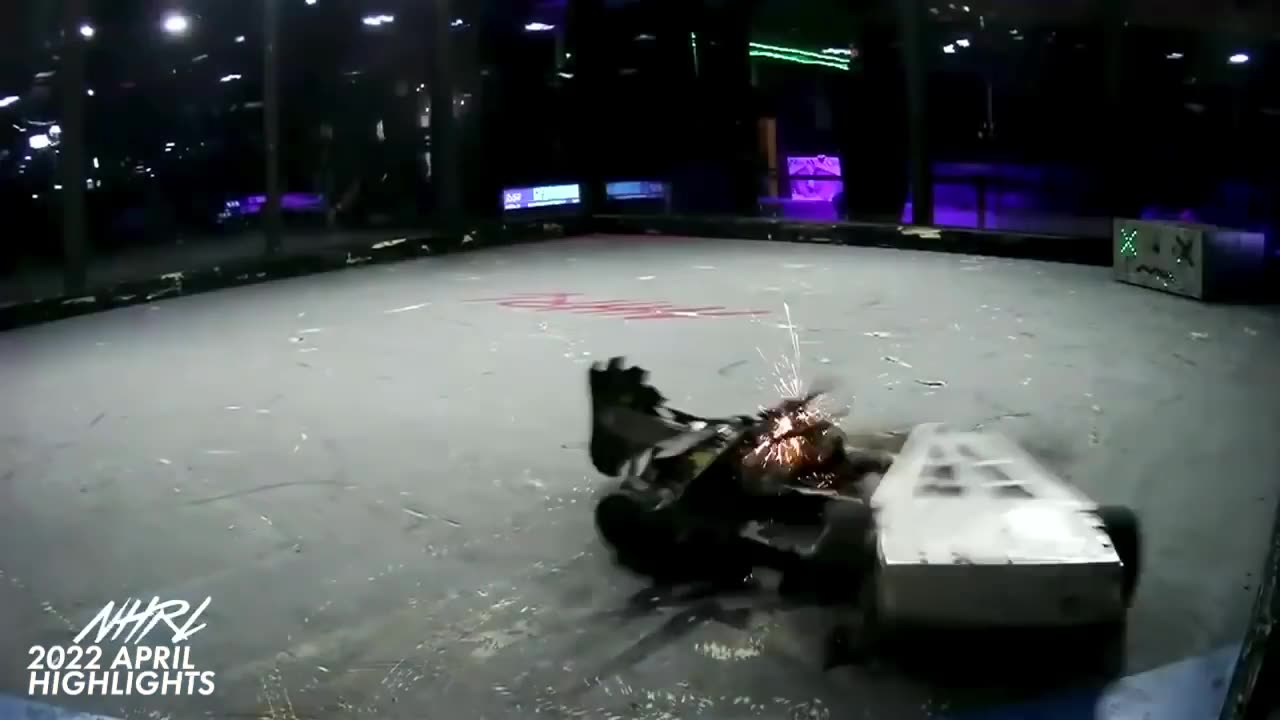combatbot: (587, 311, 842, 595), (866, 417, 1127, 624)
housebot: (1112, 218, 1279, 307)
